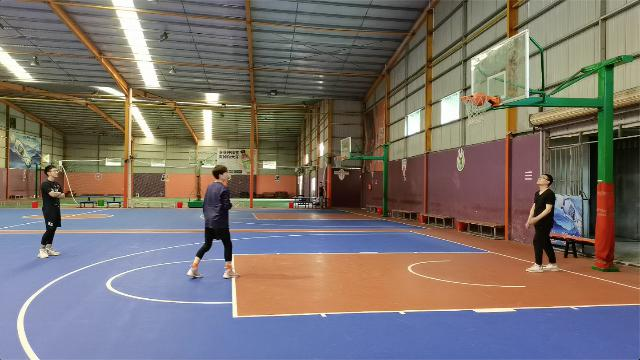basket: (460, 93, 490, 124)
goal: (469, 90, 487, 107)
